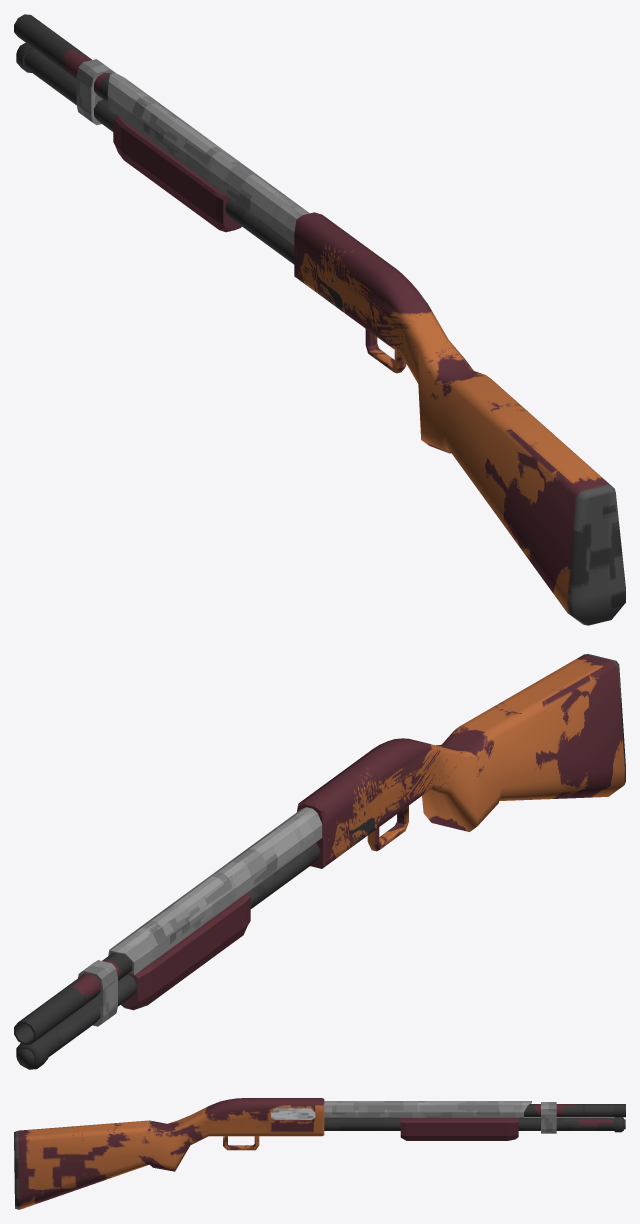
The model's file is mossenberg.glb.
The picture shows the model from 3 angles, top to bottom: view 1: azimuth 30°, elevation 25°; view 2: azimuth 150°, elevation 25°; view 3: azimuth 270°, elevation 25°; orthographic projection. The views are drawn at different scales.
Parts seen in each view (by area): view 1: Cuerpo, Guardia, Barril, Corredera; view 2: Cuerpo, Guardia, Barril, Corredera; view 3: Cuerpo, Guardia, Barril, Corredera, Corredera interna.
Part boxes in pixels (x1,y1,x2,y2): Cuerpo: (294,212,625,625); Guardia: (76,59,309,244); Barril: (14,14,294,264); Corredera: (113,115,241,232); Cuerpo: (297,654,625,868); Guardia: (78,807,322,1026); Barril: (14,842,320,1069); Corredera: (121,893,250,1010); Cuerpo: (14,1098,324,1209); Guardia: (324,1101,556,1133); Barril: (324,1104,625,1132); Corredera: (400,1117,518,1140); Corredera interna: (271,1108,315,1119).
Size of the model in its own units: 0.2842 by 0.9493 by 4.94.
Materials: 1 (1 with a texture image).
